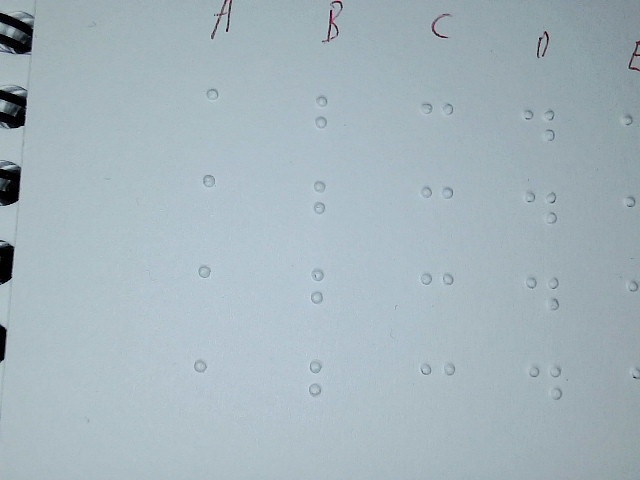A: (196, 77, 248, 161), (194, 163, 246, 247), (189, 255, 241, 339), (185, 349, 237, 433)
B: (304, 85, 356, 167), (303, 170, 355, 252), (302, 258, 354, 340), (300, 349, 352, 431)
C: (413, 91, 465, 171), (412, 176, 464, 256), (412, 262, 464, 342), (412, 352, 464, 432)
